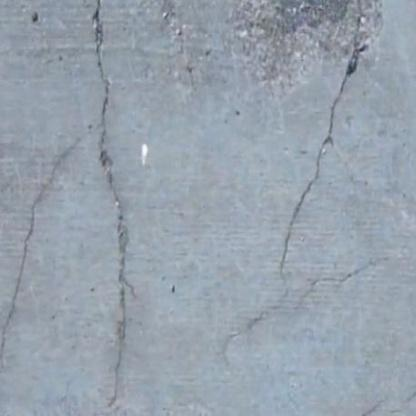Cracks: (212, 0, 389, 373), (84, 0, 141, 416), (0, 132, 85, 381), (324, 364, 416, 416)
